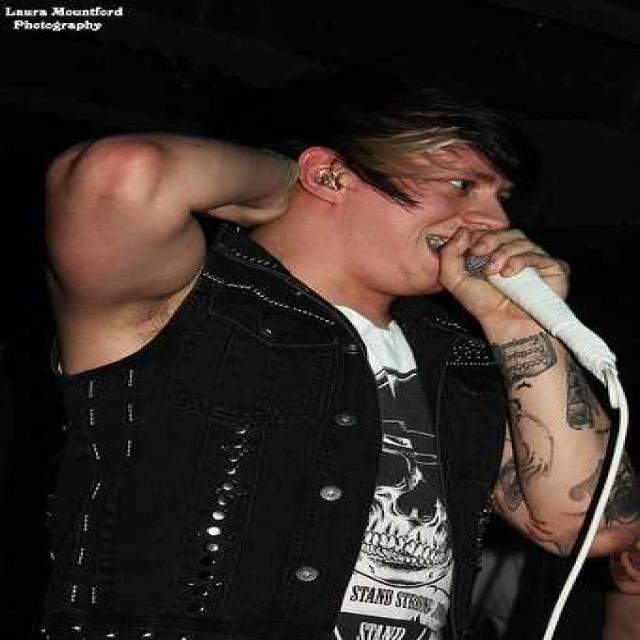microphone: (441, 234, 621, 390)
